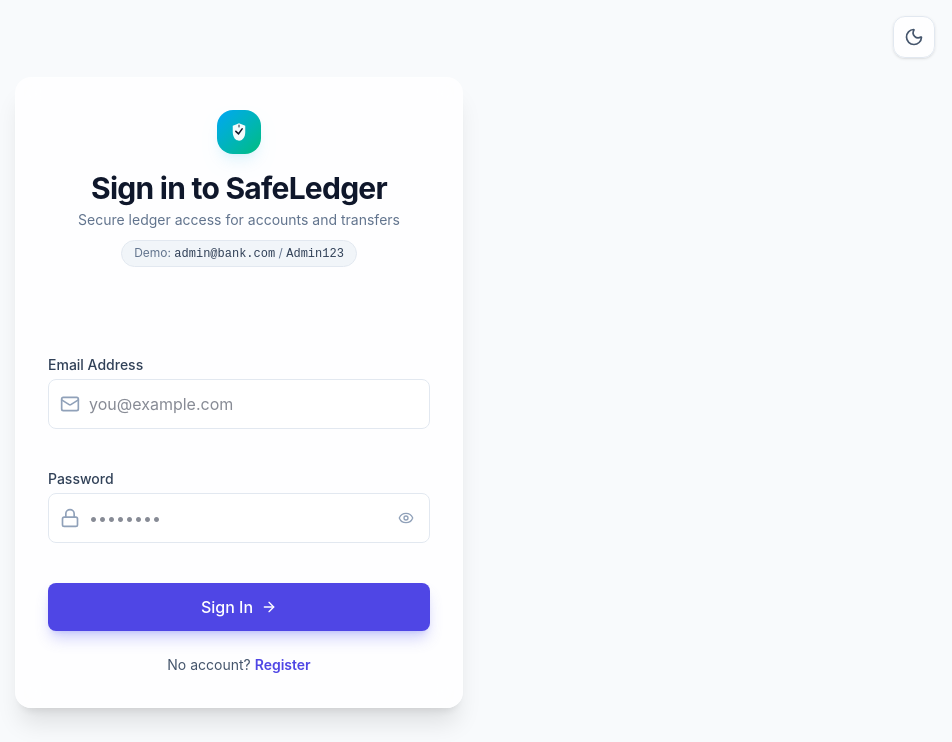
Test: SafeLedger Login - Cypress End-to-End Suite › Authentication Flows & Validation › displays server error on 401 invalid credentials
The image size is (952, 742).
In the field with test id "email-input": (239, 404) top-left (48, 379), bottom-right (430, 429), type "admin@bank.com"
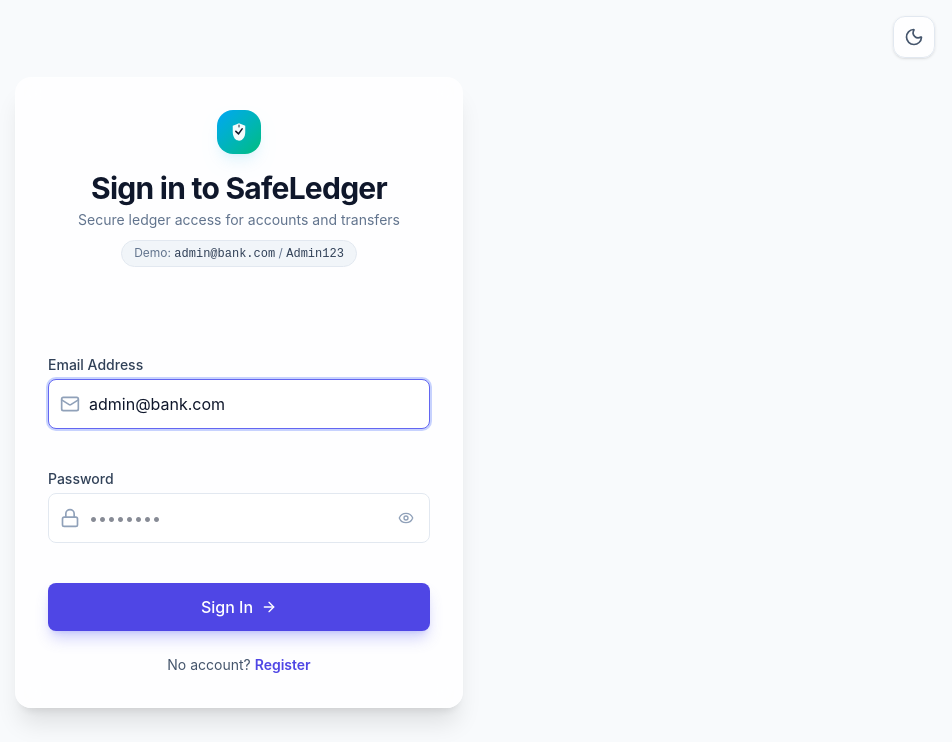
In the password field with test id "password-input": (239, 518) top-left (48, 493), bottom-right (430, 543), type "WrongPass"
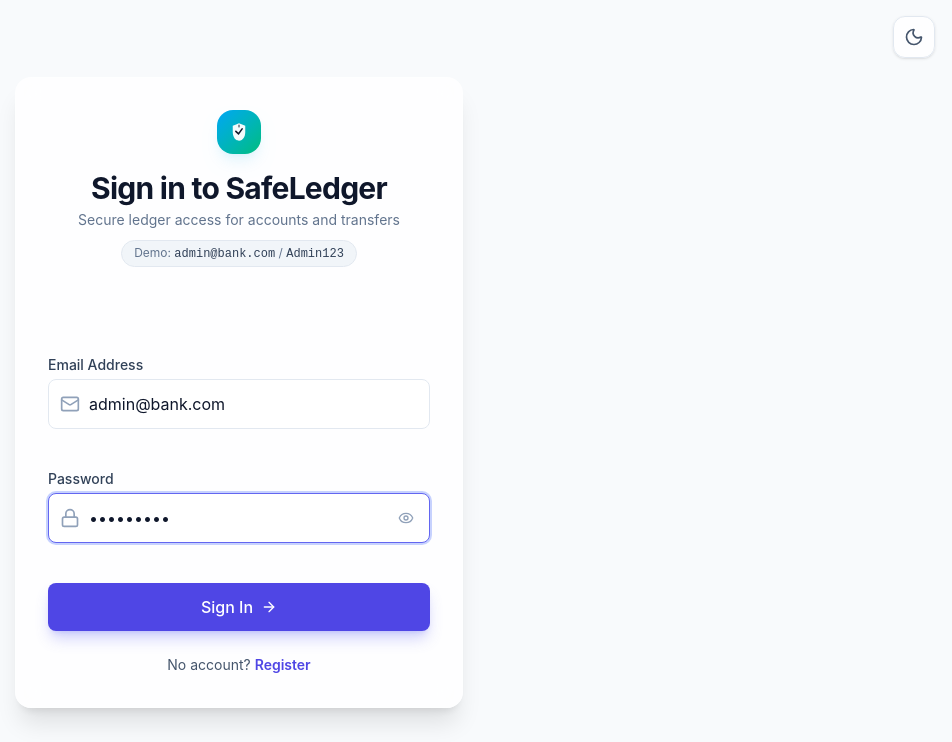
Click the button with test id "login-submit": (239, 607) top-left (48, 583), bottom-right (430, 631)
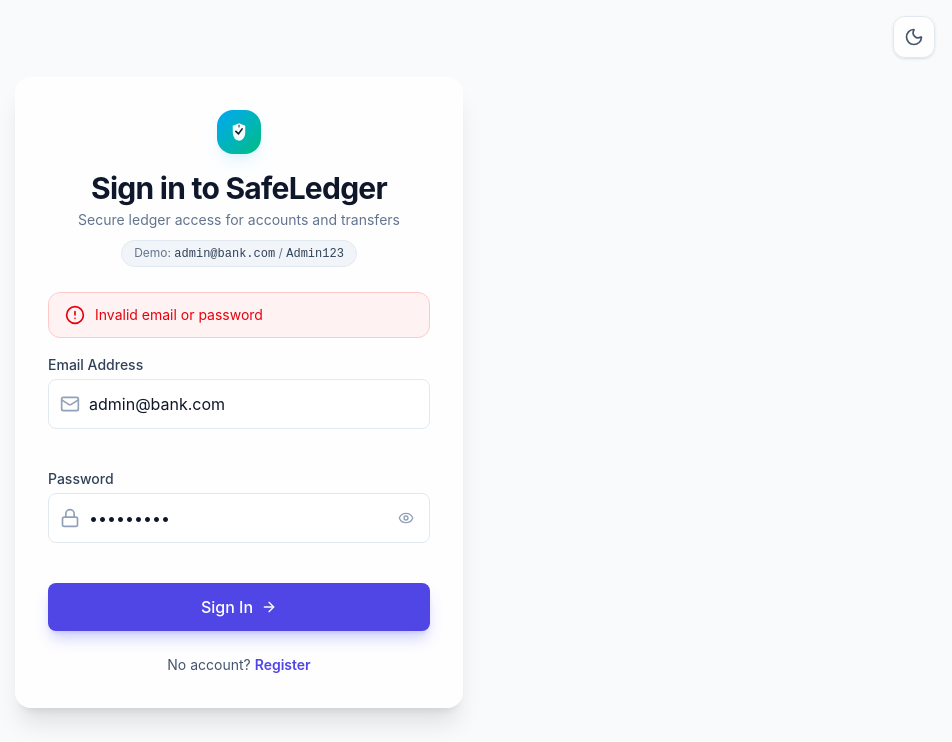
Result: the message with test id "server-error" reads "Invalid email or password" at top-left (48, 292), bottom-right (430, 338)
